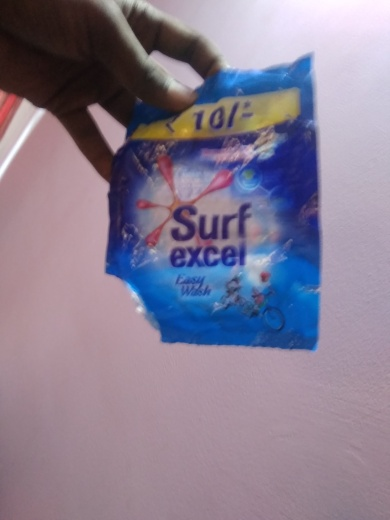surf: (118, 90, 346, 356)
